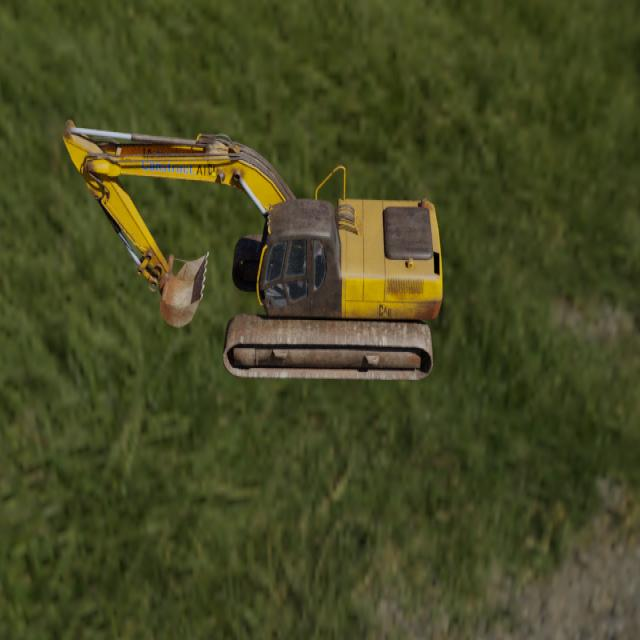excavator: (62, 119, 442, 380)
